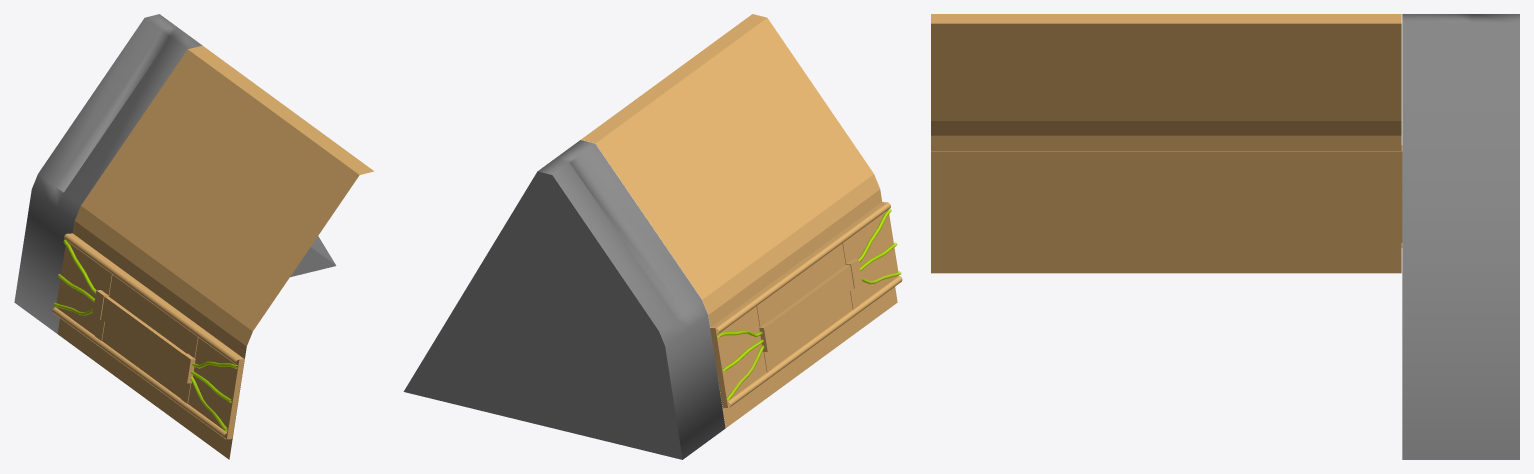
File: mod_wall-hall.fbx
3 renders of one model, left to right at view 1: azimuth 30°, elevation 25°; view 2: azimuth 150°, elevation 25°; view 3: azimuth 270°, elevation 25°, orthographic. The views are drawn at different scales.
Visible parts, largest first — view 1: mod_Wall_Hall, mod_inter_wallPanel_Close, wall_panel, wall_detail.004, wall_detail.003, wall_cables, wall_detail.002, wall_deyail; view 2: mod_inter_wallPanel_Close, mod_Wall_Hall, wall_panel, wall_detail.004, wall_detail.003, wall_cables, wall_detail.002, wall_deyail; view 3: mod_Wall_Hall, mod_inter_wallPanel_Close, wall_panel.
Boxes of the visible parts, x1,y1,x2,y2 form: mod_Wall_Hall: (57,45,374,459); mod_inter_wallPanel_Close: (14,14,336,333); wall_panel: (56,233,244,439); wall_detail.004: (52,233,238,438); wall_detail.003: (101,296,186,376); wall_cables: (53,240,237,431); wall_detail.002: (92,263,199,409); wall_deyail: (92,290,195,383); mod_inter_wallPanel_Close: (403,140,725,459); mod_Wall_Hall: (581,14,897,427); wall_panel: (710,202,898,407); wall_detail.004: (716,202,902,407); wall_detail.003: (768,265,853,344); wall_cables: (717,208,901,400); wall_detail.002: (756,231,862,377); wall_deyail: (759,258,862,351); mod_Wall_Hall: (931,14,1401,273); mod_inter_wallPanel_Close: (1402,14,1519,459); wall_panel: (931,146,1402,247).
Bounding box in the file's own units: 763 × 650 × 1001.
